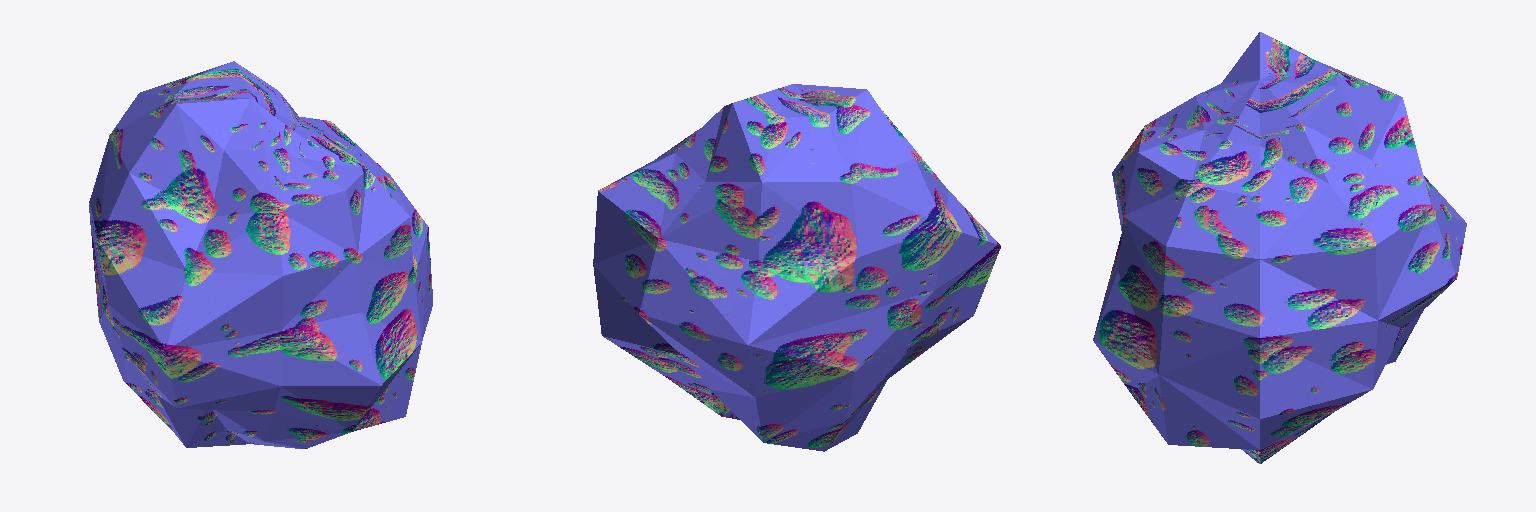
3 views of the same model, side by side, from view 1: azimuth 30°, elevation 25°; view 2: azimuth 150°, elevation 25°; view 3: azimuth 270°, elevation 25° (orthographic).
Parts seen in each view (by area): view 1: Sphere_Sphere.003; view 2: Sphere_Sphere.003; view 3: Sphere_Sphere.003.
Part boxes in pixels (x1,y1,x2,y2): Sphere_Sphere.003: (89, 61, 432, 448); Sphere_Sphere.003: (593, 84, 1000, 451); Sphere_Sphere.003: (1093, 32, 1466, 463).
Bounding box in the file's own units: 2.14 × 2.21 × 2.07.
1 materials, 1 textured.